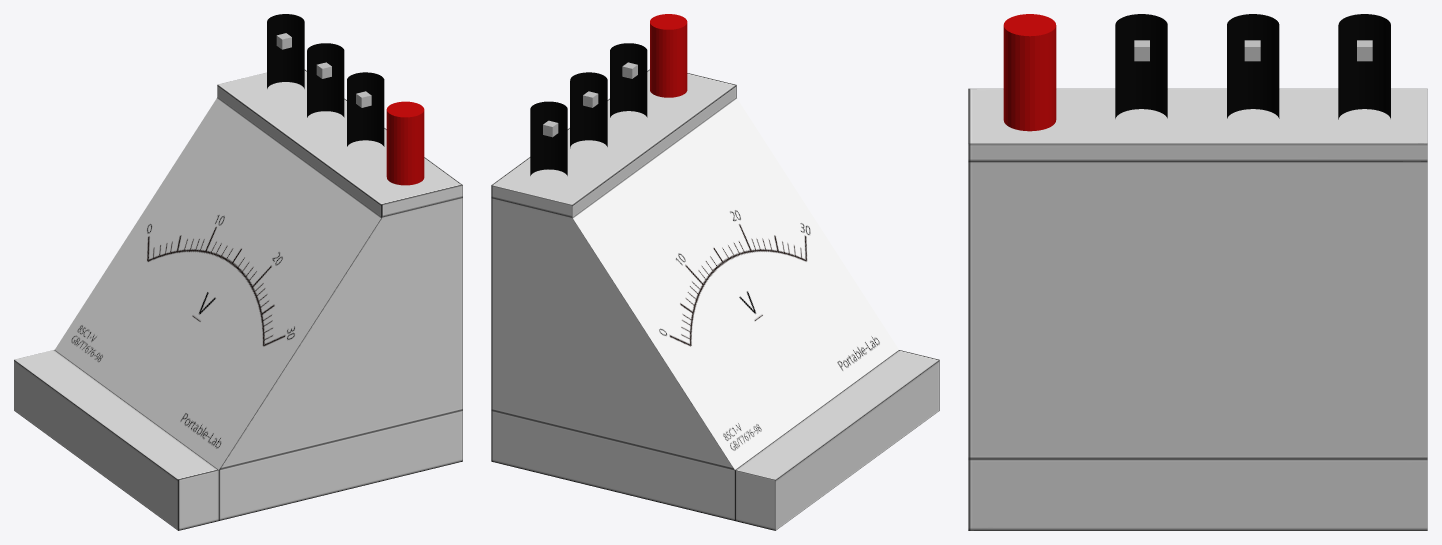
File: 140801_voltmeter.fbx
3 views of the same model, side by side, from view 1: azimuth 30°, elevation 25°; view 2: azimuth 150°, elevation 25°; view 3: azimuth 270°, elevation 25° (orthographic). The views are drawn at different scales.
Parts seen in each view (by area): view 1: Cube, Cylinder_004, Cylinder_002, Cylinder_003, Cylinder; view 2: Cube, Cylinder_004, Cylinder_002, Cylinder, Cylinder_003; view 3: Cube, Cylinder_004, Cylinder_002, Cylinder, Cylinder_003.
Part boxes in pixels (x1,y1,x2,y2): Cube: (14, 69, 462, 530); Cylinder_004: (386, 101, 424, 185); Cylinder_002: (307, 43, 344, 117); Cylinder_003: (347, 72, 384, 146); Cylinder: (267, 14, 304, 88); Cube: (491, 69, 939, 530); Cylinder_004: (650, 14, 687, 97); Cylinder_002: (570, 72, 607, 148); Cylinder: (530, 101, 567, 175); Cylinder_003: (610, 43, 647, 117); Cube: (968, 88, 1427, 530); Cylinder_004: (1003, 14, 1056, 131); Cylinder_002: (1227, 14, 1279, 118); Cylinder: (1338, 14, 1390, 119); Cylinder_003: (1115, 14, 1167, 118).
Size of the model in its own units: 7 by 8.1 by 7.
6 materials, 1 textured.
